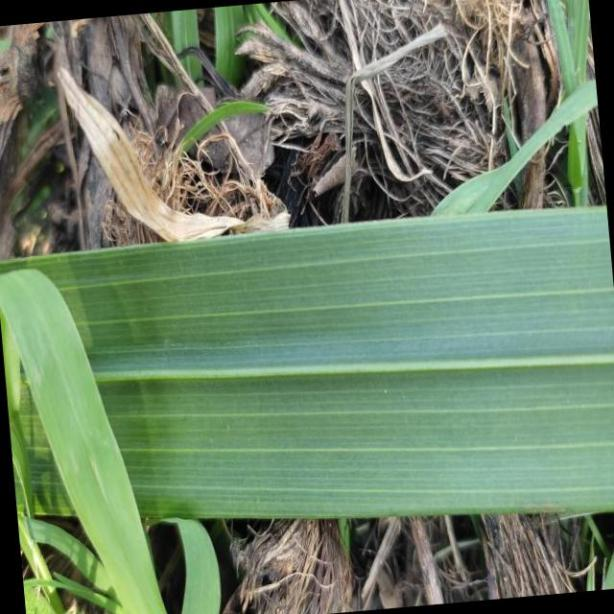Healthy: (1, 206, 614, 519)
